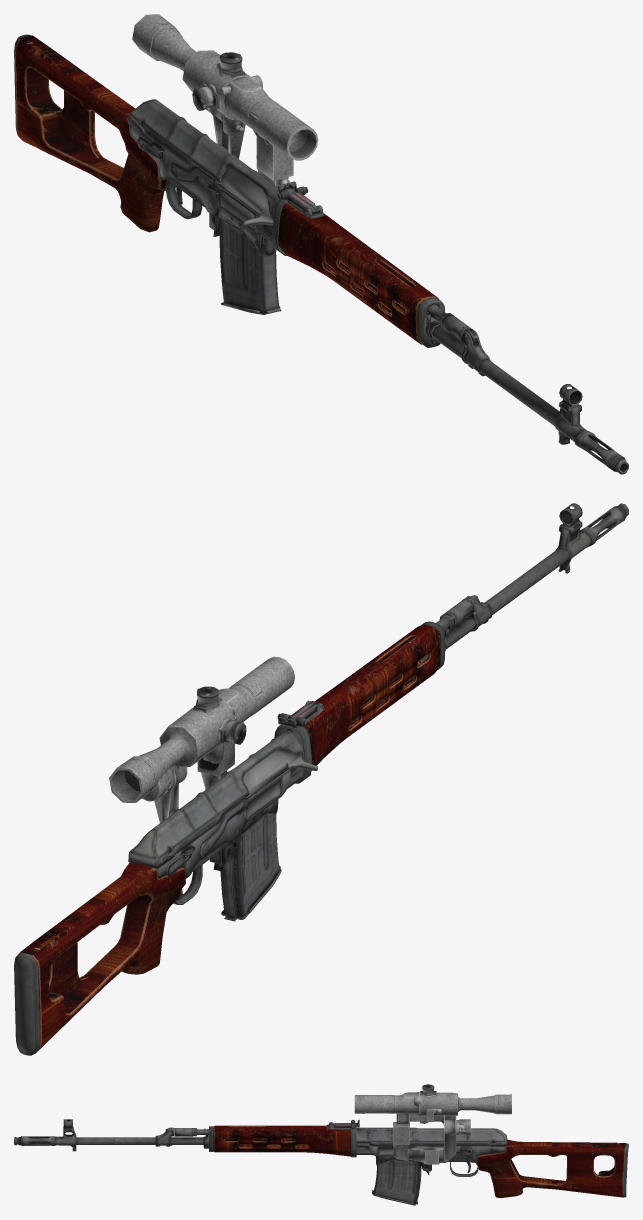
File: 85式狙击步枪.FBX
3 views of the same model, one above another, from view 1: azimuth 30°, elevation 25°; view 2: azimuth 150°, elevation 25°; view 3: azimuth 270°, elevation 25° (orthographic). The views are drawn at different scales.
Parts seen in each view (by area): view 1: 85式狙击步枪; view 2: 85式狙击步枪; view 3: 85式狙击步枪.
Boxes of the visible parts, left/top/right/bottom form: 85式狙击步枪: left=14, top=14, right=628, bottom=474; 85式狙击步枪: left=14, top=503, right=628, bottom=1055; 85式狙击步枪: left=14, top=1084, right=628, bottom=1205.
Size of the model in its own units: 0.0956 by 0.2624 by 1.22.
